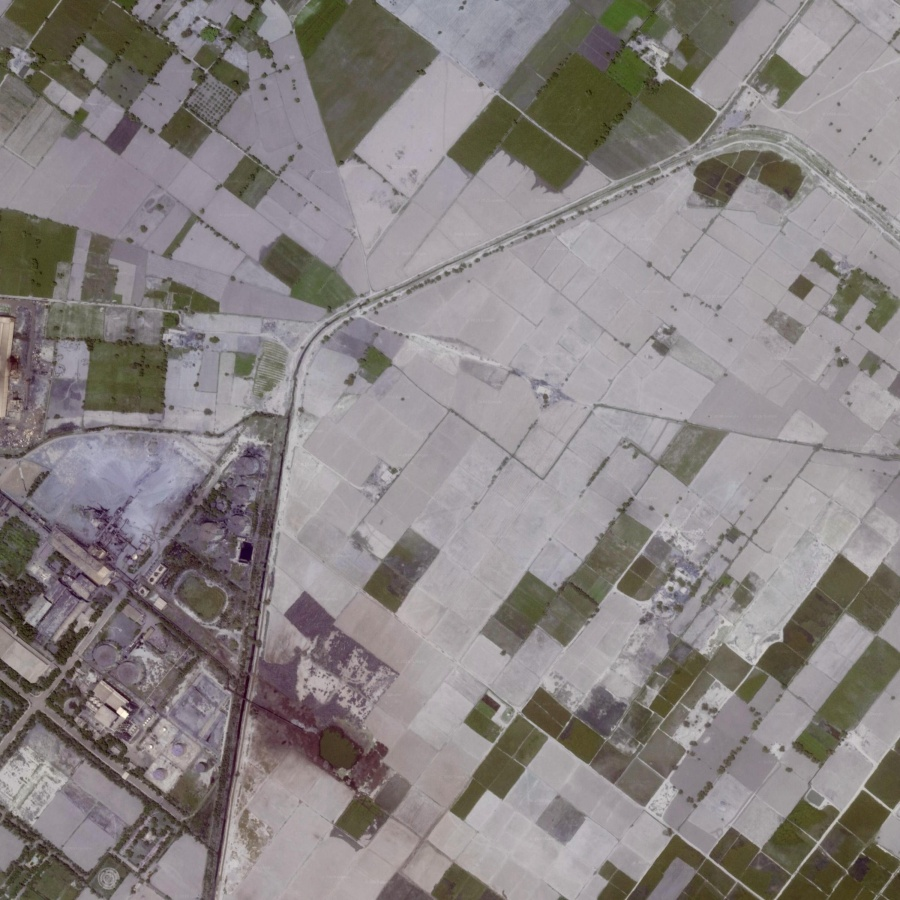PowerPlant: (39, 571, 229, 789)
